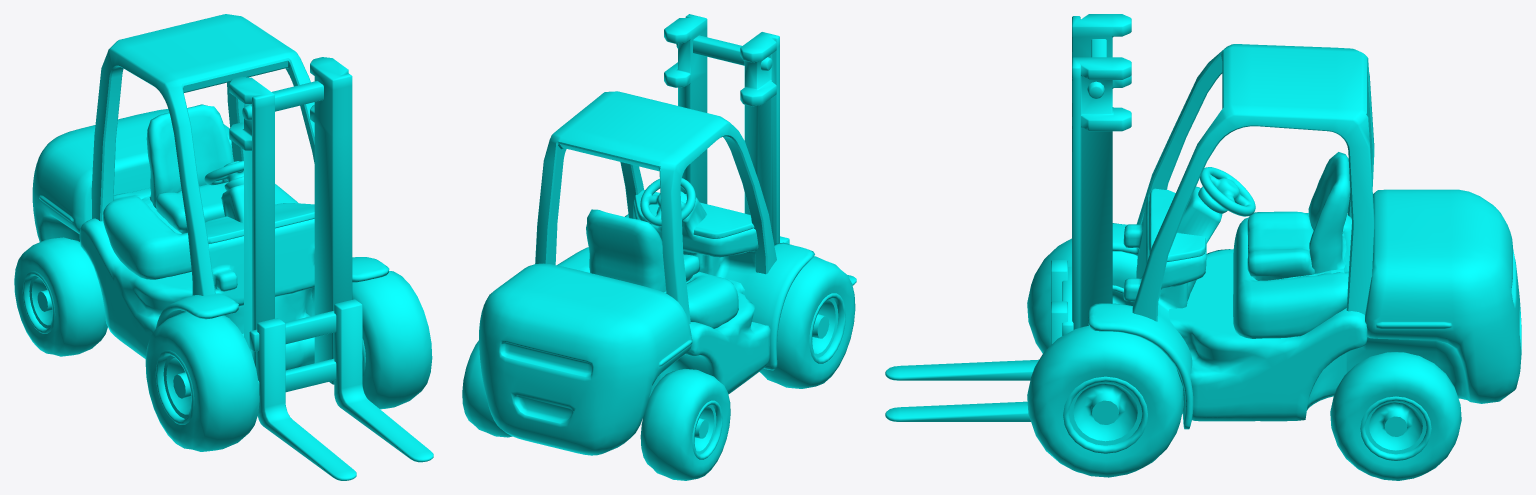
File: Forklift.fbx
The picture shows the model from 3 angles, left to right: view 1: azimuth 30°, elevation 25°; view 2: azimuth 150°, elevation 25°; view 3: azimuth 270°, elevation 25°; orthographic projection. The views are drawn at different scales.
Visible parts, largest first — view 1: forklift; view 2: forklift; view 3: forklift.
Part boxes in pixels (x1,y1,x2,y2): forklift: (14,14,433,480); forklift: (462,14,856,480); forklift: (885,14,1521,480).
Size of the model in its own units: 205 by 431 by 287.
